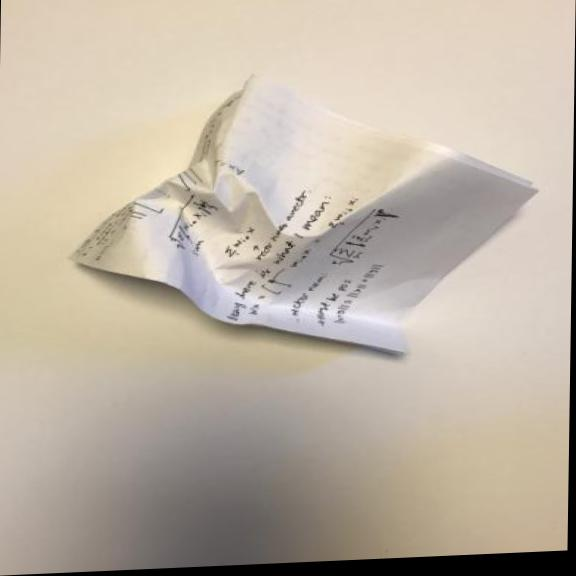Kertas: (60, 55, 545, 375)
